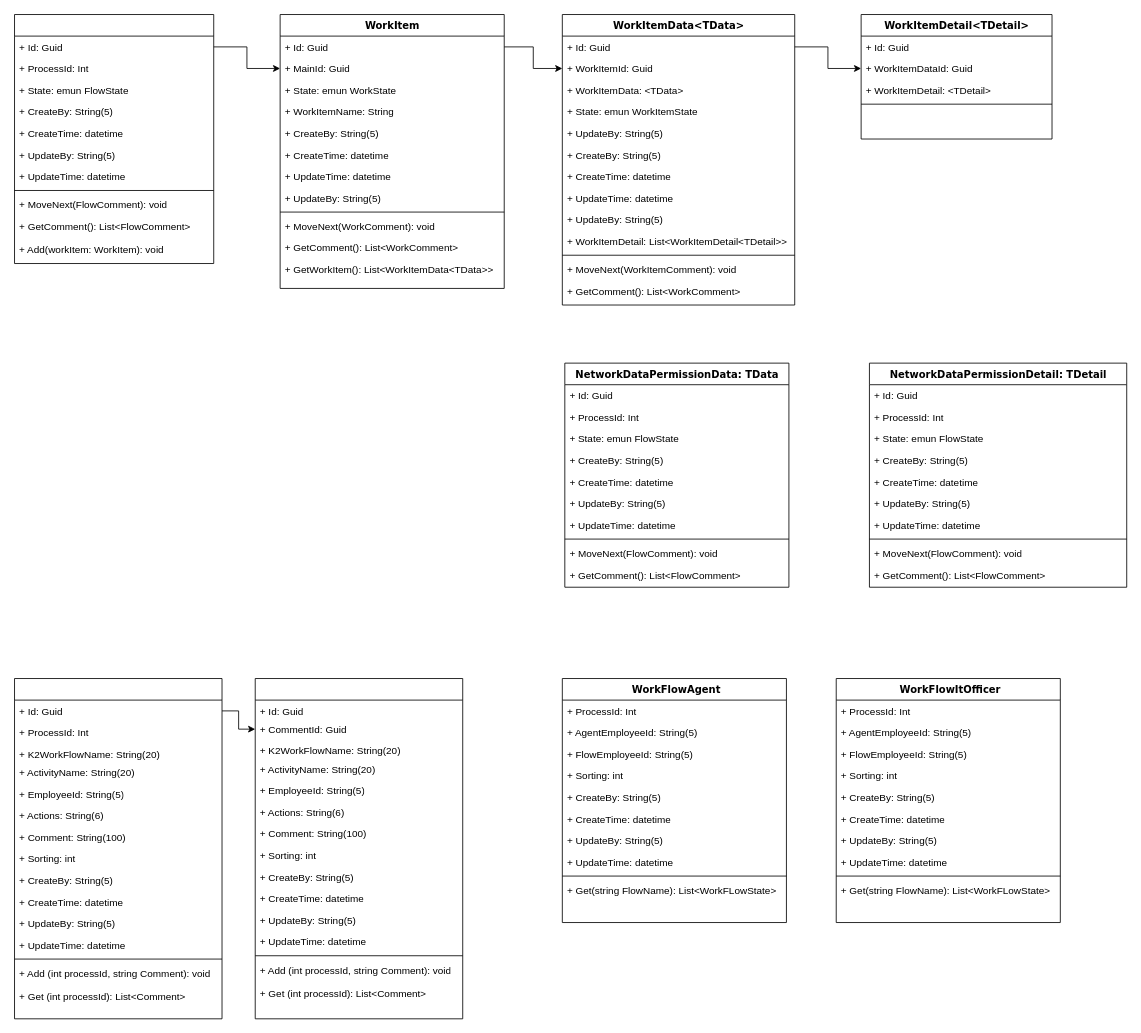
The diagram is 1141 pixels wide and 1033 high, and some of its shapes have lost their labels. The box of each missing label's shape, as (x1, y1, x2, y2) in pixels:
ApplyAnyWhereMain: (14, 14, 214, 264)
WorkFlowComment: (254, 678, 463, 1019)
WorkFlowMain: (14, 678, 222, 1019)
